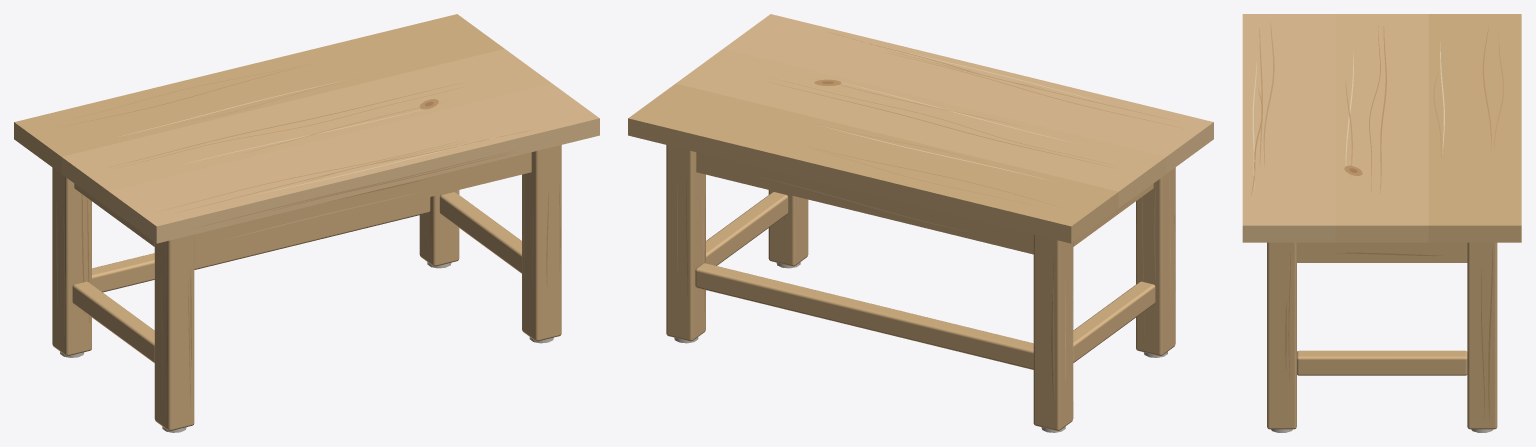
The model's file is bureau-retour.glb.
3 renders of one model, left to right at view 1: azimuth 30°, elevation 25°; view 2: azimuth 150°, elevation 25°; view 3: azimuth 270°, elevation 25°, orthographic. The views are drawn at different scales.
Parts seen in each view (by area): view 1: bureau-retour; view 2: bureau-retour; view 3: bureau-retour.
Part boxes in pixels (left/top/right/bottom): bureau-retour: left=14, top=14, right=599, bottom=432; bureau-retour: left=628, top=14, right=1213, bottom=432; bureau-retour: left=1242, top=14, right=1521, bottom=432.
Bounding box in the file's own units: 0.7 × 0.3409 × 0.3904.
